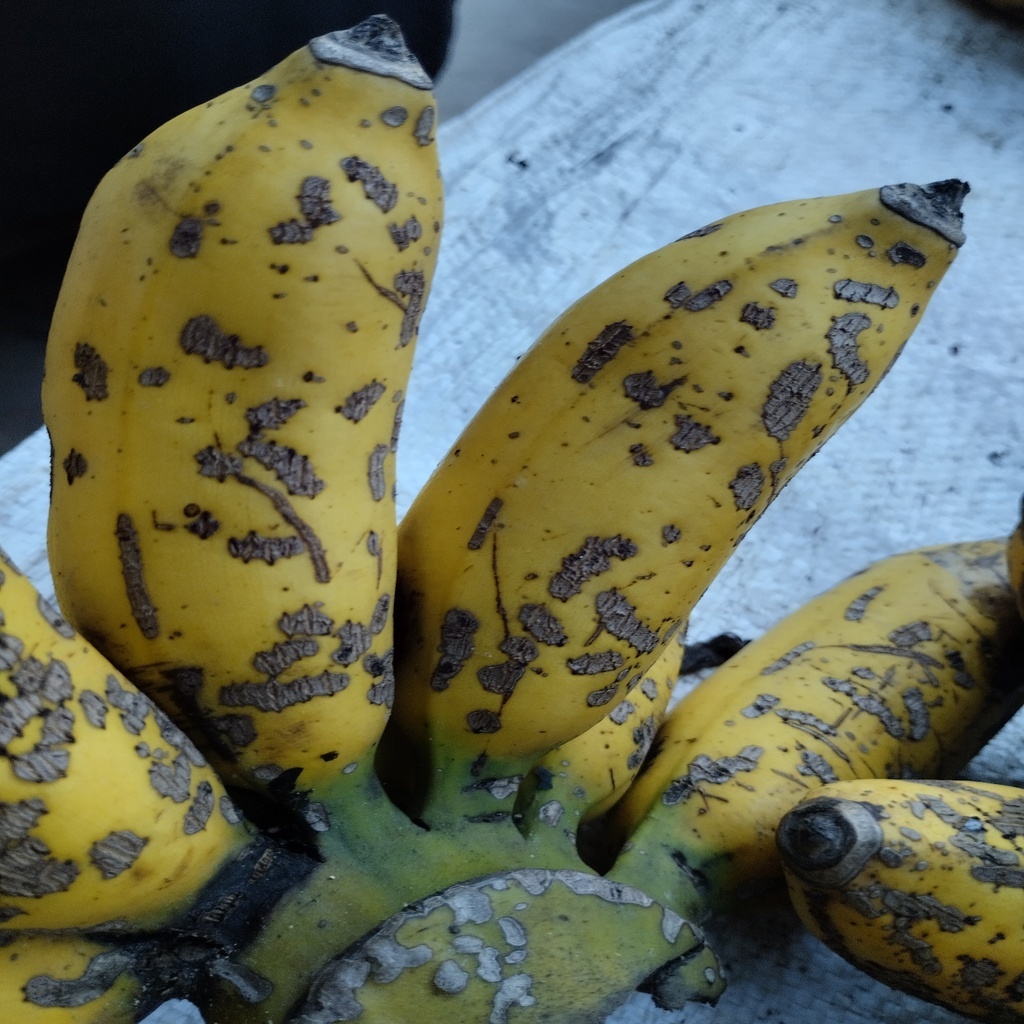unhealthy: (395, 180, 964, 781), (42, 18, 441, 763)
